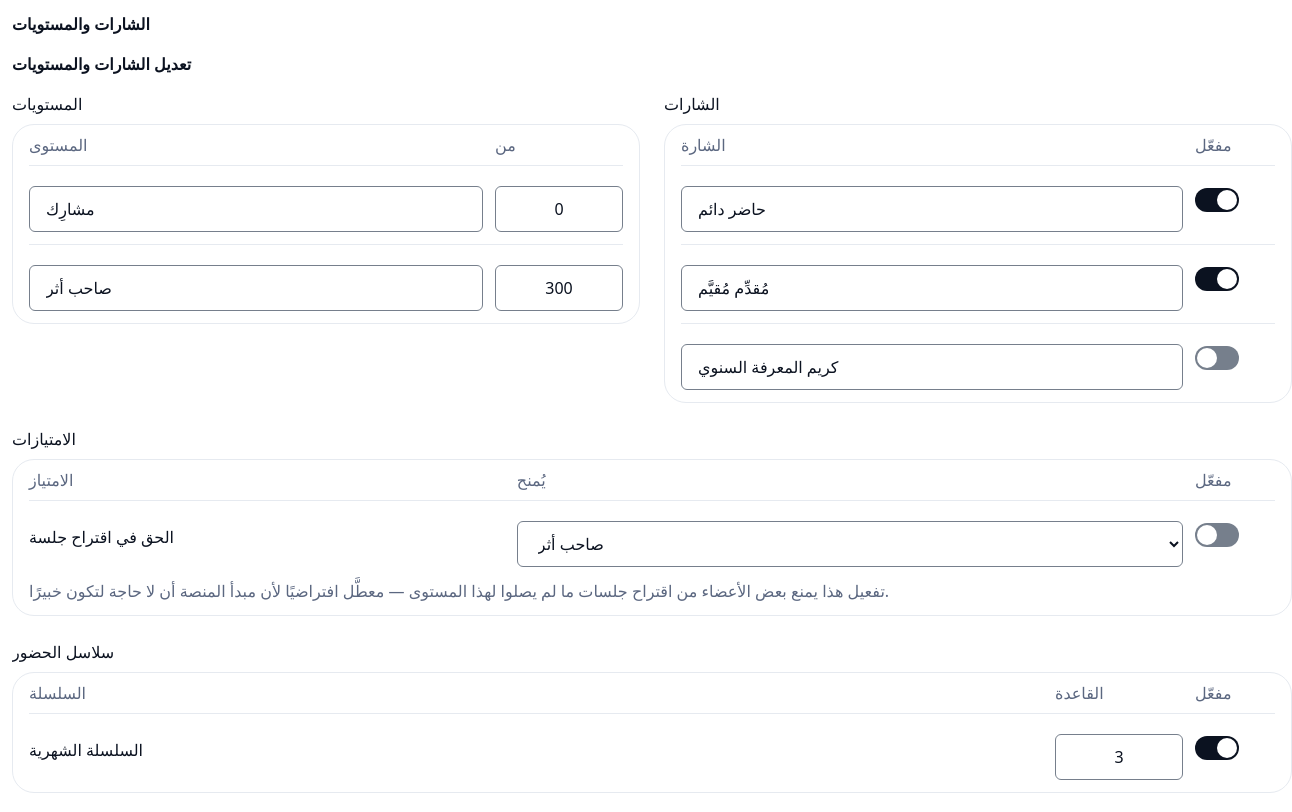
Test case: RecognitionAdminPage — edit mode › a badge's switch STAGES its retirement — nothing is written — counted and named «(معدّل)»; the streak offers no bonus
The width and height of the screenshot is (1292, 812).
Click the switch named "مفعّل — حاضر دائم" at (1217, 200), box left=1195, top=178, right=1239, bottom=222
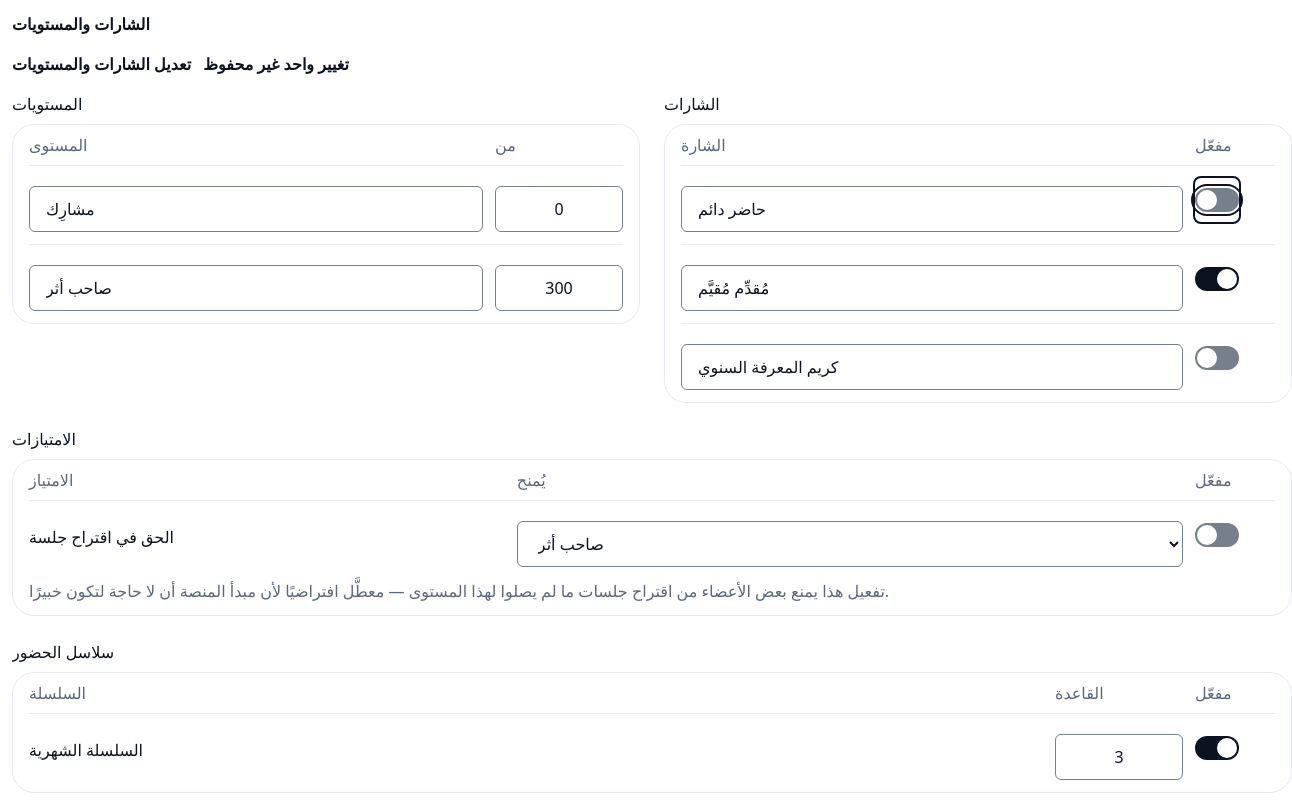
Check: the text "معطَّل افتراضيًا" is shown, box left=29, top=580, right=889, bottom=602
Check: the switch named "مفعّل (معدّل) — حاضر دائم" is not checked, box left=1195, top=178, right=1239, bottom=222
Check: the text "تغيير واحد غير محفوظ" is shown, box left=203, top=52, right=349, bottom=76
